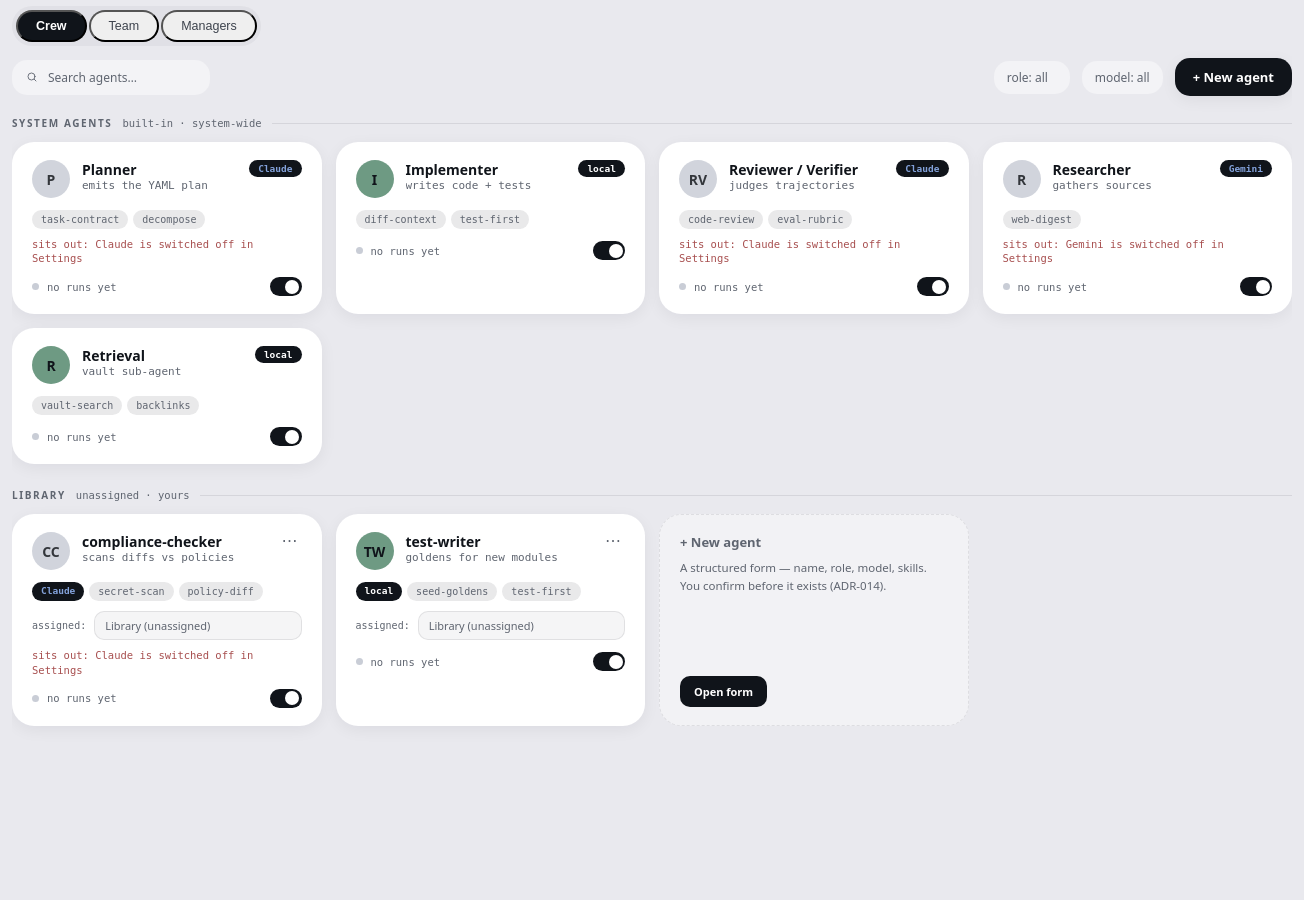
Test: Agents page tabs — crew first, nothing blocking it › the Managers tab shows the manager panel
Click the tab "Managers". click: (209, 26)
box: [161, 10, 257, 42]
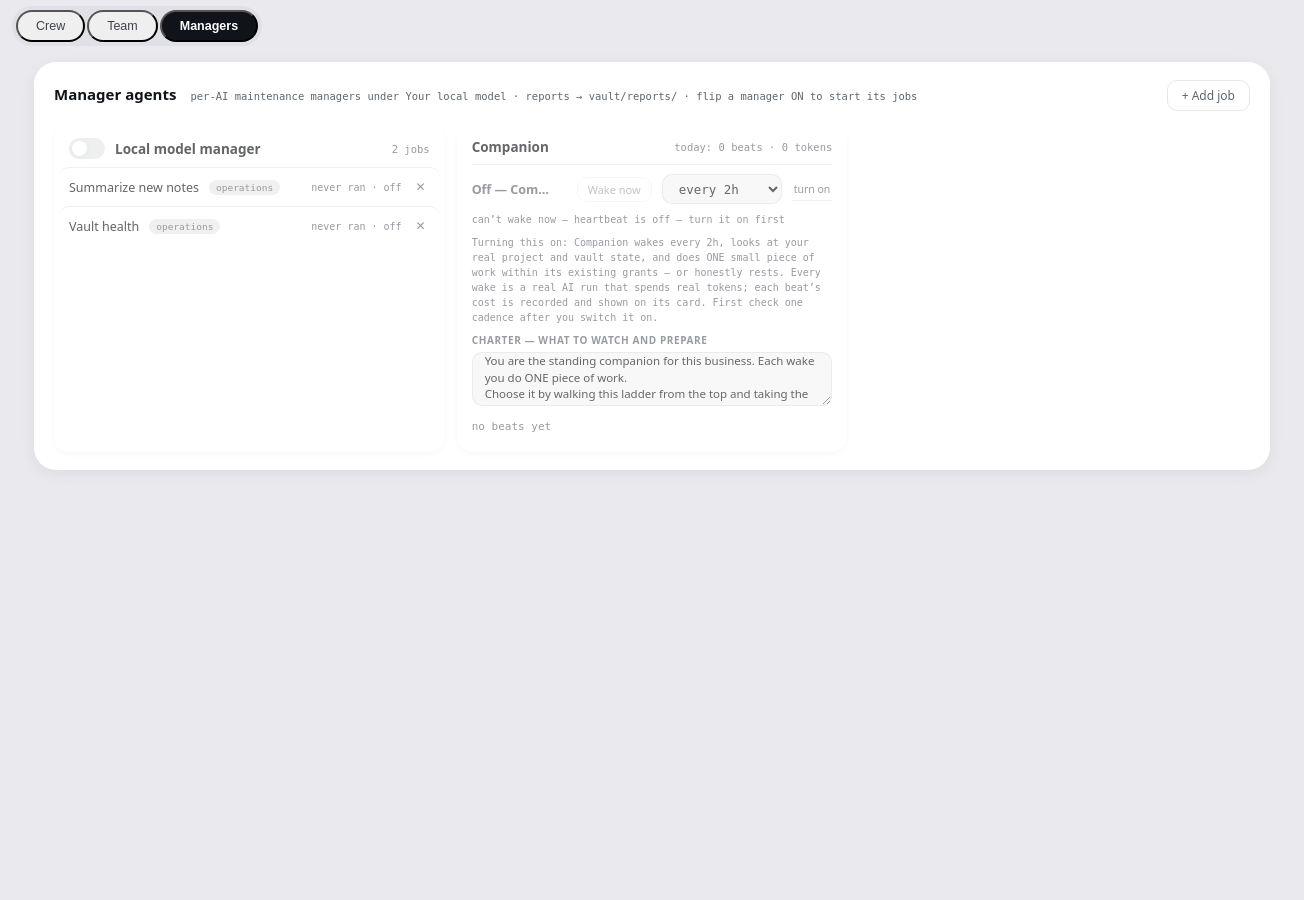
expect the text "Manager agents" is shown: met, box [54, 84, 176, 104]
